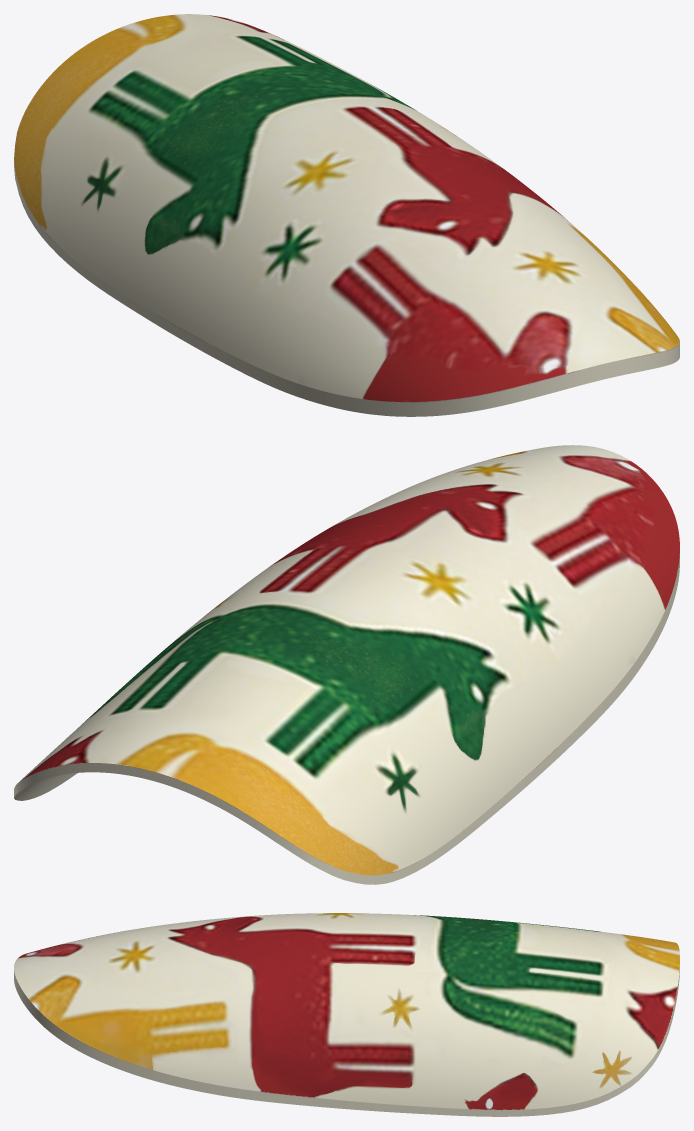
File: MF_Xiao_ma_Shizhi_ty03.obj
3 views of the same model, one above another, from view 1: azimuth 30°, elevation 25°; view 2: azimuth 150°, elevation 25°; view 3: azimuth 270°, elevation 25° (orthographic). The views are drawn at different scales.
Parts seen in each view (by area): view 1: MF_Xiao_ma_Shizhi_ty03; view 2: MF_Xiao_ma_Shizhi_ty03; view 3: MF_Xiao_ma_Shizhi_ty03.
Part boxes in pixels (left/top/right/bottom): MF_Xiao_ma_Shizhi_ty03: left=14, top=14, right=679, bottom=416; MF_Xiao_ma_Shizhi_ty03: left=14, top=445, right=679, bottom=884; MF_Xiao_ma_Shizhi_ty03: left=14, top=913, right=679, bottom=1116.
Size of the model in its own units: 11.98 by 5.49 by 26.36.
Materials: 1 (1 with a texture image).
